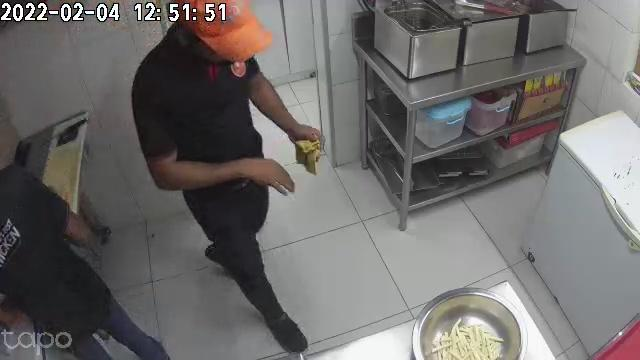no_gloves: (212, 159, 296, 196)
